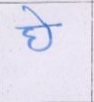e_matra: (21, 5, 48, 25)
